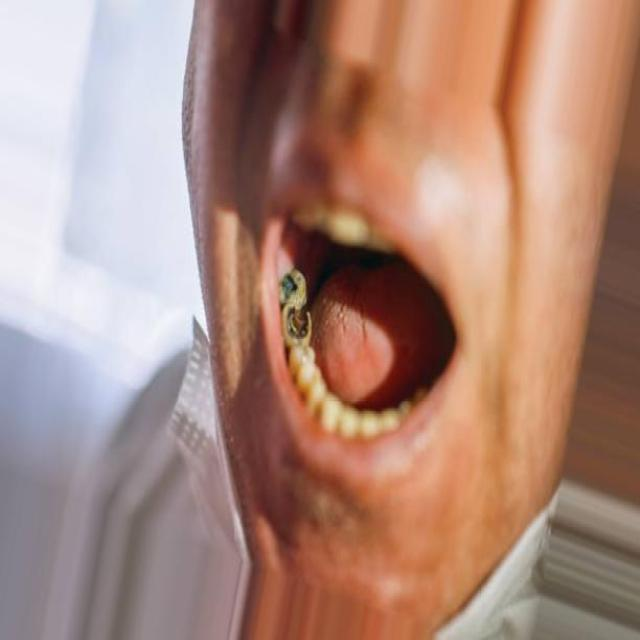caries: (280, 302, 316, 354), (274, 260, 308, 307)
